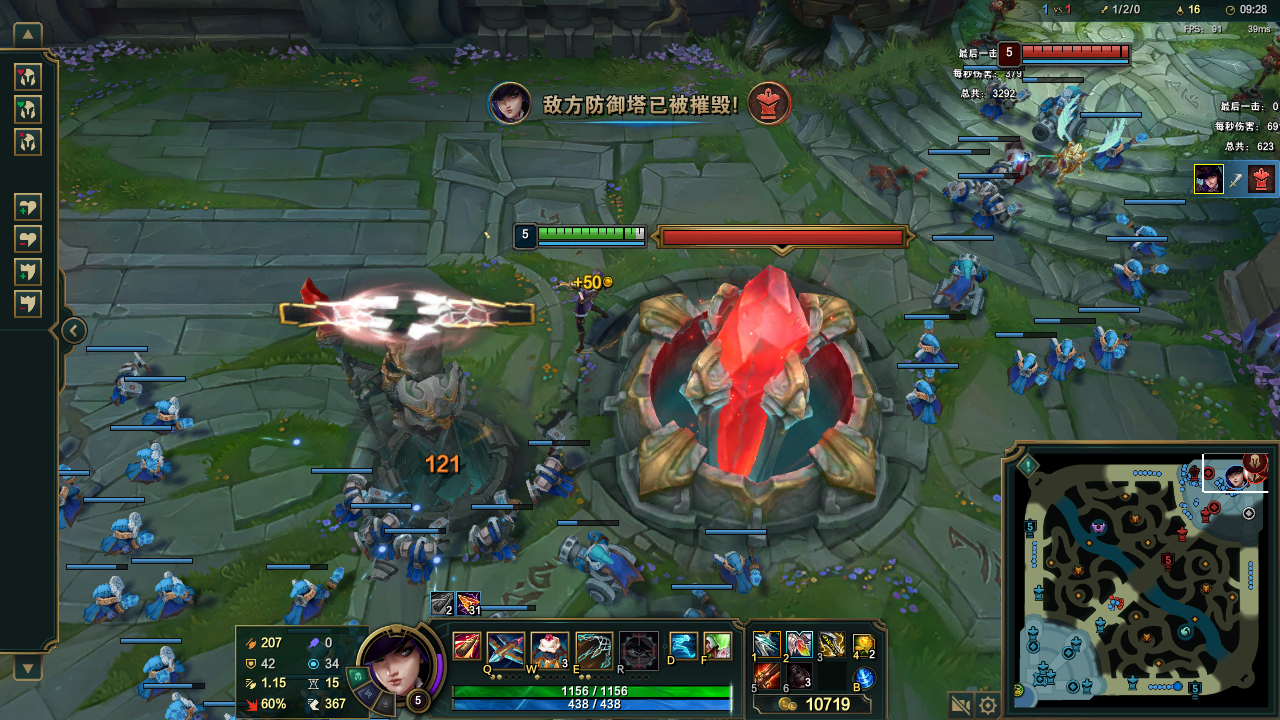DFDSJ: (614, 276, 885, 523)
DFYX: (1024, 45, 1134, 58)
